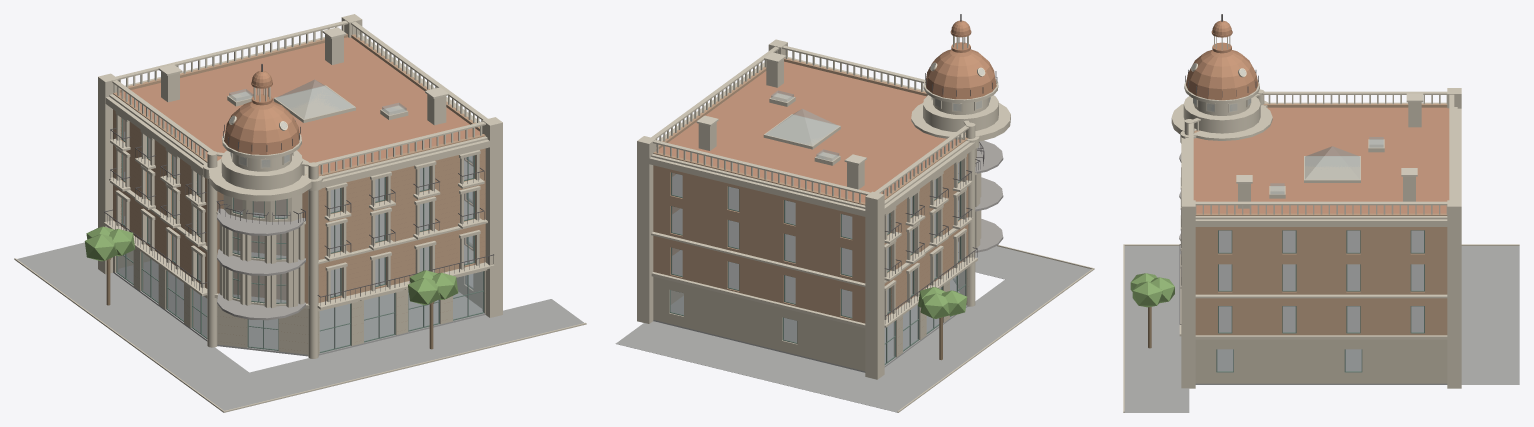
Rendered from clay-chamfer-corner-dome-block-clay-v003.glb.
The picture shows the model from 3 angles, left to right: view 1: azimuth 30°, elevation 25°; view 2: azimuth 150°, elevation 25°; view 3: azimuth 270°, elevation 25°; orthographic projection. The views are drawn at different scales.
Visible parts, largest first — view 1: CLAY_STONE, CLAY_FOUNDATION, CLAY_WALL, CLAY_MEMBRANE, CLAY_GLASS, CLAY_FLOOR, CLAY_RUSTIC, CLAY_TRIM, CLAY_PALE, CLAY_COPPER, CLAY_HARDWARE, CLAY_PLANTING; view 2: CLAY_STONE, CLAY_WALL, CLAY_FOUNDATION, CLAY_MEMBRANE, CLAY_RUSTIC, CLAY_GLASS, CLAY_FLOOR, CLAY_PALE, CLAY_COPPER, CLAY_TRIM, CLAY_HARDWARE, CLAY_PLANTING; view 3: CLAY_WALL, CLAY_STONE, CLAY_MEMBRANE, CLAY_FOUNDATION, CLAY_RUSTIC, CLAY_GLASS, CLAY_FLOOR, CLAY_COPPER, CLAY_PALE, CLAY_TRIM, CLAY_PLANTING, CLAY_HARDWARE.
Part boxes in pixels (box(x1,y1,x2,y2)): CLAY_STONE: box(14, 14, 586, 412); CLAY_FOUNDATION: box(17, 242, 583, 412); CLAY_WALL: box(113, 33, 485, 303); CLAY_MEMBRANE: box(119, 37, 479, 173); CLAY_GLASS: box(117, 79, 483, 351); CLAY_FLOOR: box(124, 132, 473, 320); CLAY_RUSTIC: box(113, 247, 485, 354); CLAY_TRIM: box(116, 118, 484, 352); CLAY_PALE: box(113, 25, 482, 175); CLAY_COPPER: box(224, 70, 299, 154); CLAY_HARDWARE: box(104, 64, 493, 305); CLAY_PLANTING: box(84, 226, 458, 305); CLAY_STONE: box(637, 39, 1094, 412); CLAY_WALL: box(653, 58, 968, 323); CLAY_FOUNDATION: box(615, 246, 1091, 412); CLAY_MEMBRANE: box(656, 61, 961, 202); CLAY_RUSTIC: box(653, 268, 968, 371); CLAY_GLASS: box(670, 63, 990, 363); CLAY_FLOOR: box(672, 140, 1003, 317); CLAY_PALE: box(656, 36, 990, 202); CLAY_COPPER: box(925, 20, 996, 99); CLAY_TRIM: box(669, 161, 966, 364); CLAY_HARDWARE: box(884, 14, 997, 323); CLAY_PLANTING: box(918, 287, 967, 318); CLAY_WALL: box(1194, 103, 1447, 335); CLAY_STONE: box(1123, 80, 1519, 412); CLAY_MEMBRANE: box(1193, 107, 1449, 213); CLAY_FOUNDATION: box(1124, 246, 1519, 412); CLAY_RUSTIC: box(1195, 339, 1447, 383); CLAY_GLASS: box(1192, 64, 1423, 371); CLAY_FLOOR: box(1179, 153, 1423, 332); CLAY_COPPER: box(1186, 20, 1258, 100); CLAY_PALE: box(1191, 36, 1447, 214); CLAY_TRIM: box(1216, 230, 1424, 372); CLAY_PLANTING: box(1130, 273, 1174, 307); CLAY_HARDWARE: box(1179, 14, 1258, 324).
Bounding box in the file's own units: 36 × 27.38 × 36.
